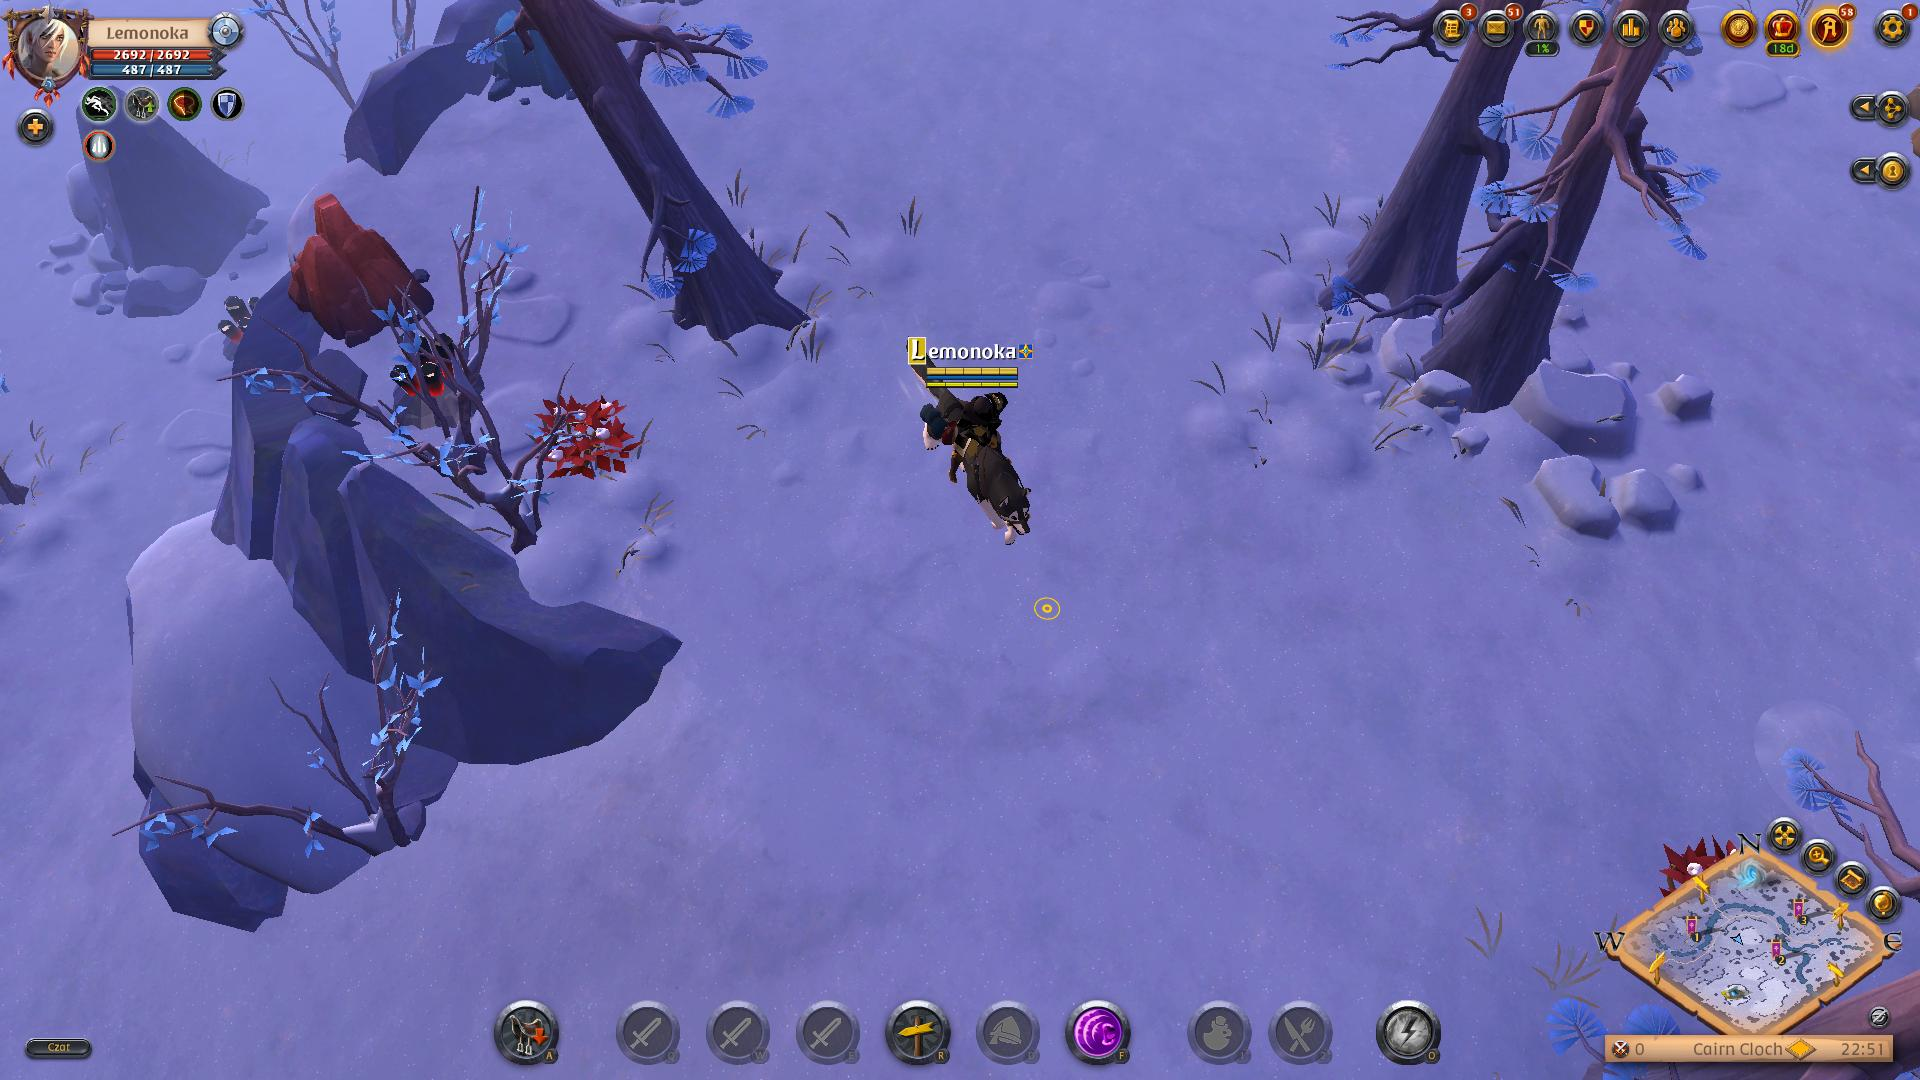fiber tier 5: (535, 382, 638, 495)
rock tier 5: (284, 195, 435, 353)
